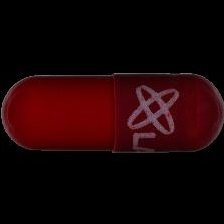68084-358: (0, 0, 224, 224)
